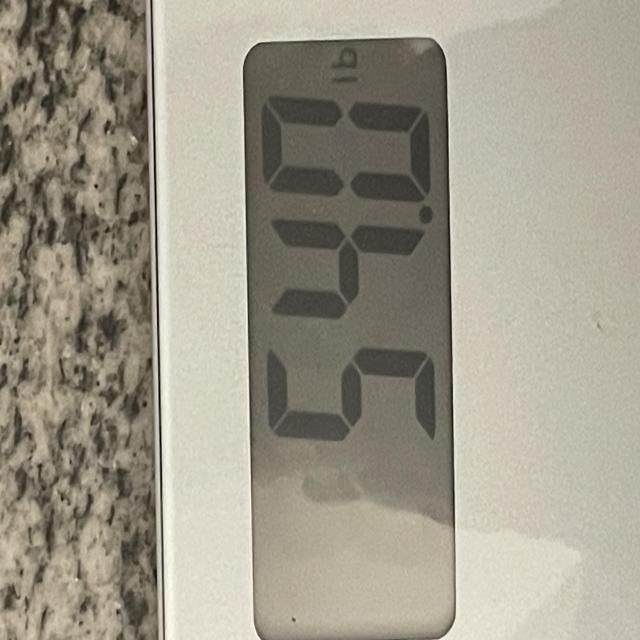ws: (241, 36, 458, 640)
